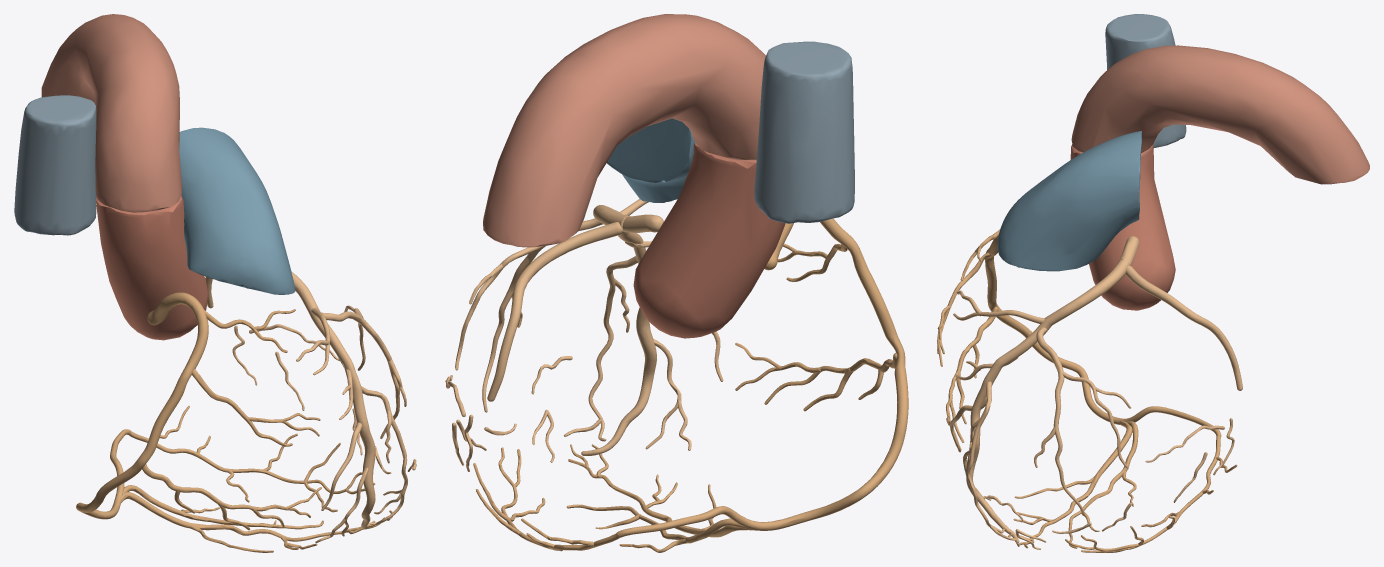
Rendered from anatomy-vessels.glb.
The picture shows the model from 3 angles, left to right: view 1: azimuth 30°, elevation 25°; view 2: azimuth 150°, elevation 25°; view 3: azimuth 270°, elevation 25°; orthographic projection. The views are drawn at different scales.
Visible parts, largest first — view 1: aortic-arch__FJ3411, pulmonary-trunk__FJ2966, superior-vena-cava__FJ3645, ascending-aorta__FJ3413, right-coronary__FJ2723, left-coronary__FJ2631, right-coronary__FJ2692, right-coronary__FJ2693, right-coronary__FJ2714, left-coronary__FJ2642, right-coronary__FJ2672, left-coronary__FJ2635 (+1 smaller); view 2: aortic-arch__FJ3411, ascending-aorta__FJ3413, superior-vena-cava__FJ3645, right-coronary__FJ2723, pulmonary-trunk__FJ2966, left-coronary__FJ2649, left-coronary__FJ2631, left-coronary__FJ2635, left-coronary__FJ2642, right-coronary__FJ2692, right-coronary__FJ2693, right-coronary__FJ2672 (+4 smaller); view 3: aortic-arch__FJ3411, pulmonary-trunk__FJ2966, ascending-aorta__FJ3413, left-coronary__FJ2631, superior-vena-cava__FJ3645, right-coronary__FJ2723, left-coronary__FJ2649, left-coronary__FJ2642, right-coronary__FJ2692, left-coronary__FJ2635, right-coronary__FJ2714, right-coronary__FJ2693 (+2 smaller).
Part boxes in pixels (x1,y1,x2,y2): aortic-arch__FJ3411: [41, 14, 181, 212]; pulmonary-trunk__FJ2966: [179, 127, 295, 294]; superior-vena-cava__FJ3645: [14, 95, 96, 235]; ascending-aorta__FJ3413: [96, 195, 208, 340]; right-coronary__FJ2723: [76, 292, 208, 519]; left-coronary__FJ2631: [291, 271, 375, 529]; right-coronary__FJ2692: [121, 492, 375, 541]; right-coronary__FJ2693: [123, 485, 323, 529]; right-coronary__FJ2714: [129, 431, 345, 493]; left-coronary__FJ2642: [322, 311, 399, 438]; right-coronary__FJ2672: [142, 464, 284, 526]; left-coronary__FJ2635: [361, 386, 407, 525]; aortic-arch__FJ3411: [483, 14, 765, 247]; ascending-aorta__FJ3413: [633, 142, 785, 338]; superior-vena-cava__FJ3645: [754, 41, 854, 223]; right-coronary__FJ2723: [616, 218, 908, 537]; pulmonary-trunk__FJ2966: [607, 118, 694, 202]; left-coronary__FJ2649: [487, 222, 623, 401]; left-coronary__FJ2631: [581, 205, 656, 455]; left-coronary__FJ2635: [588, 256, 637, 441]; left-coronary__FJ2642: [482, 218, 602, 412]; right-coronary__FJ2692: [568, 459, 756, 537]; right-coronary__FJ2693: [566, 504, 757, 543]; right-coronary__FJ2672: [764, 352, 897, 404]; aortic-arch__FJ3411: [1071, 45, 1369, 184]; pulmonary-trunk__FJ2966: [997, 131, 1141, 271]; ascending-aorta__FJ3413: [1070, 144, 1175, 310]; left-coronary__FJ2631: [966, 259, 1129, 542]; superior-vena-cava__FJ3645: [1105, 14, 1186, 147]; right-coronary__FJ2723: [985, 236, 1221, 436]; left-coronary__FJ2649: [1125, 265, 1242, 390]; left-coronary__FJ2642: [1036, 327, 1084, 515]; right-coronary__FJ2692: [1024, 420, 1132, 548]; left-coronary__FJ2635: [966, 381, 1004, 533]; right-coronary__FJ2714: [1095, 435, 1220, 551]; right-coronary__FJ2693: [1068, 421, 1138, 548].
Size of the model in its own units: 2.12 by 2.84 by 2.53.
